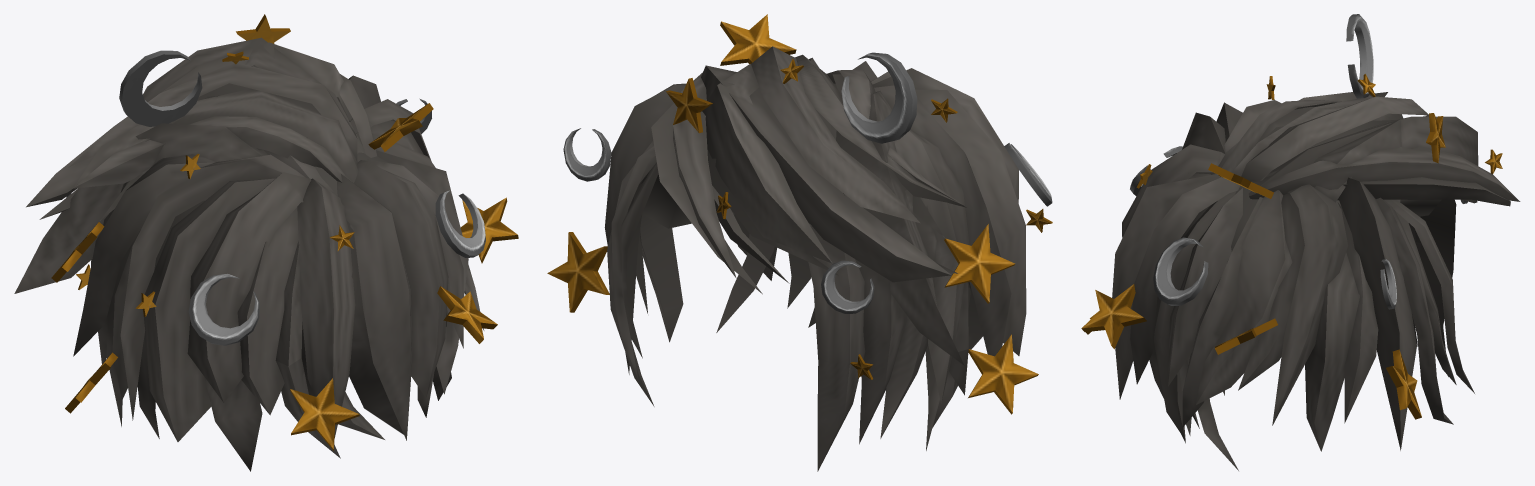
3 views of the same model, side by side, from view 1: azimuth 30°, elevation 25°; view 2: azimuth 150°, elevation 25°; view 3: azimuth 270°, elevation 25° (orthographic). The views are drawn at different scales.
Parts seen in each view (by area): view 1: geometry_0; view 2: geometry_0; view 3: geometry_0.
Part boxes in pixels (x1=…): geometry_0: x1=14, y1=14, x2=518, y2=471; geometry_0: x1=547, y1=14, x2=1052, y2=471; geometry_0: x1=1081, y1=14, x2=1520, y2=470.
Bounding box in the file's own units: 2.25 × 1.98 × 2.14.
Materials: 1 (1 with a texture image).
